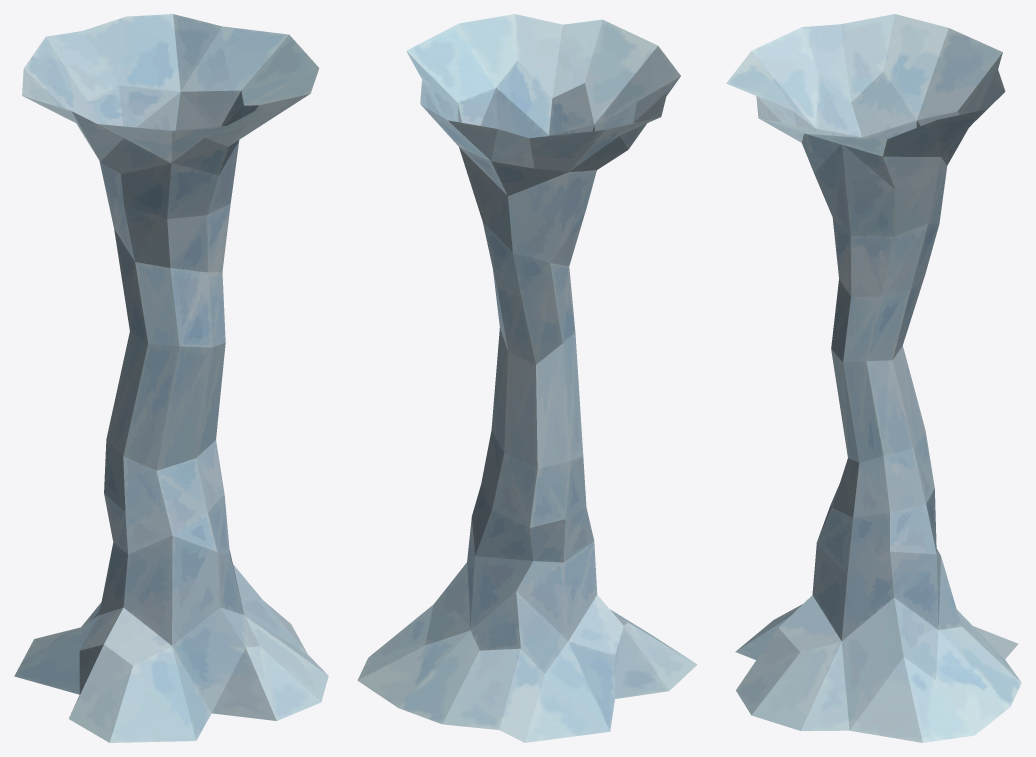
File: cavepillar3.fbx
3 views of the same model, side by side, from view 1: azimuth 30°, elevation 25°; view 2: azimuth 150°, elevation 25°; view 3: azimuth 270°, elevation 25° (orthographic). The views are drawn at different scales.
Visible parts, largest first — view 1: Cube.002; view 2: Cube.002; view 3: Cube.002.
Boxes of the visible parts, x1=… form: Cube.002: x1=14, y1=14, x2=328, y2=742; Cube.002: x1=357, y1=14, x2=697, y2=742; Cube.002: x1=726, y1=14, x2=1021, y2=742.
Bounding box in the file's own units: 958 × 1963 × 886.
